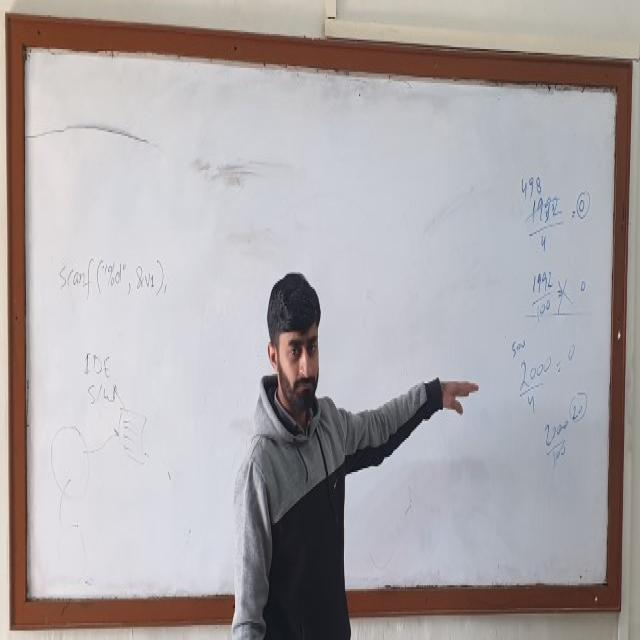Instructor: (223, 255, 369, 640)
White-board: (14, 33, 625, 611)
